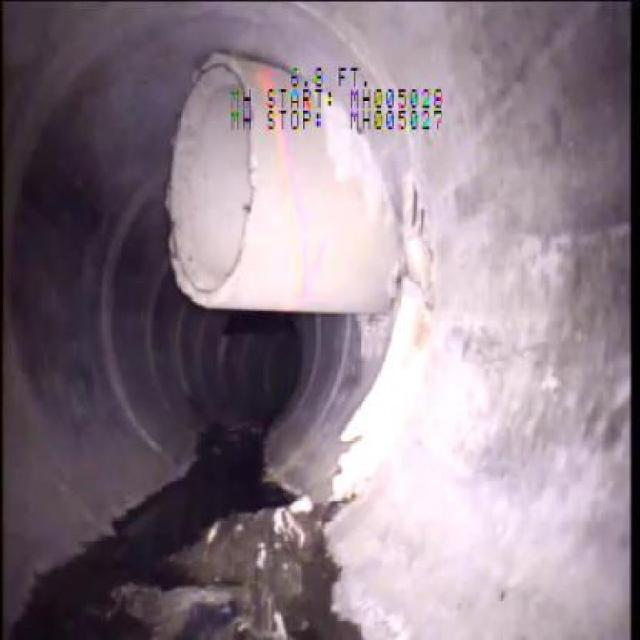Debris: (134, 492, 321, 638)
